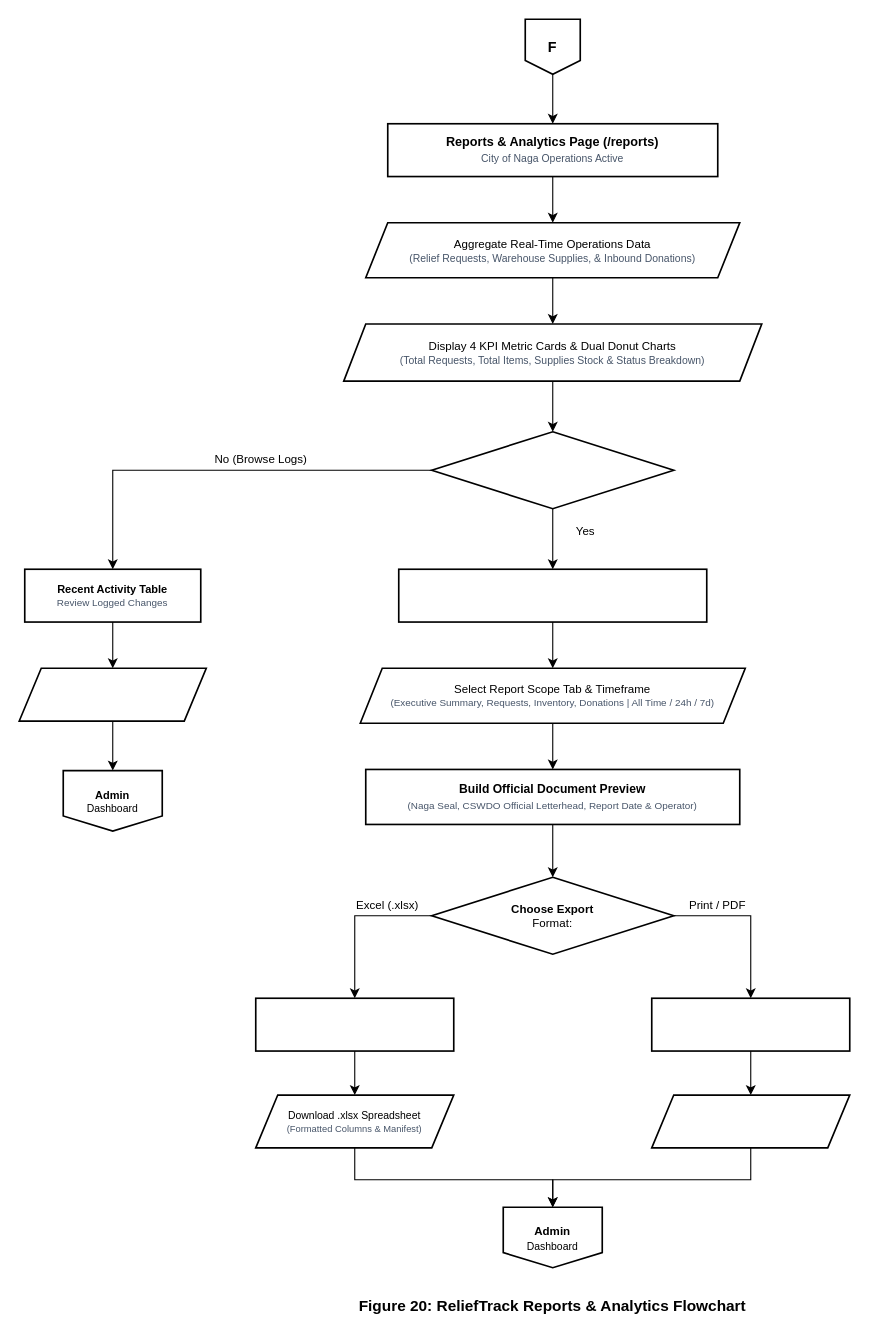
This 870x1342 diagram has some shape labels left out. The centre of each missing label's shape, as x and y in pixels:
Audit Timestamped Logs (IDs, Types, Locations): (112,694)
Click [Export Excel] Format Tabular Worksheets: (354,1024)
Click [Generate Report] Button?: (552,469)
Click [Print / Save as PDF] Apply Official CSWDO Stylesheet: (750,1024)
Open "Generate Operations Report" Dialog Executive Reporting Manifest Modal: (552,595)
Save / Print Official PDF (Consolidated CSWDO Document): (750,1121)
